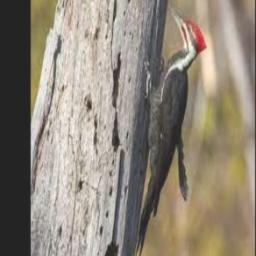Woodpecker: (135, 4, 207, 256)
